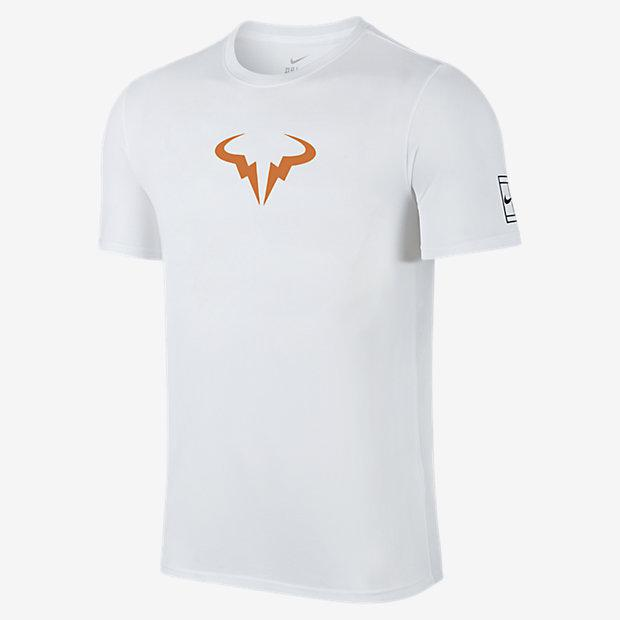teeshirt: (87, 12, 543, 620)
